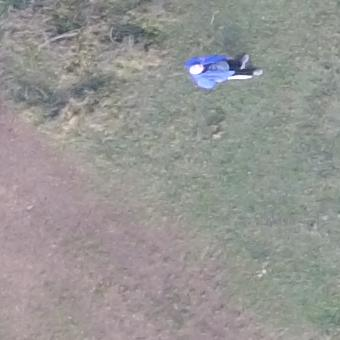human: (185, 51, 265, 91)
